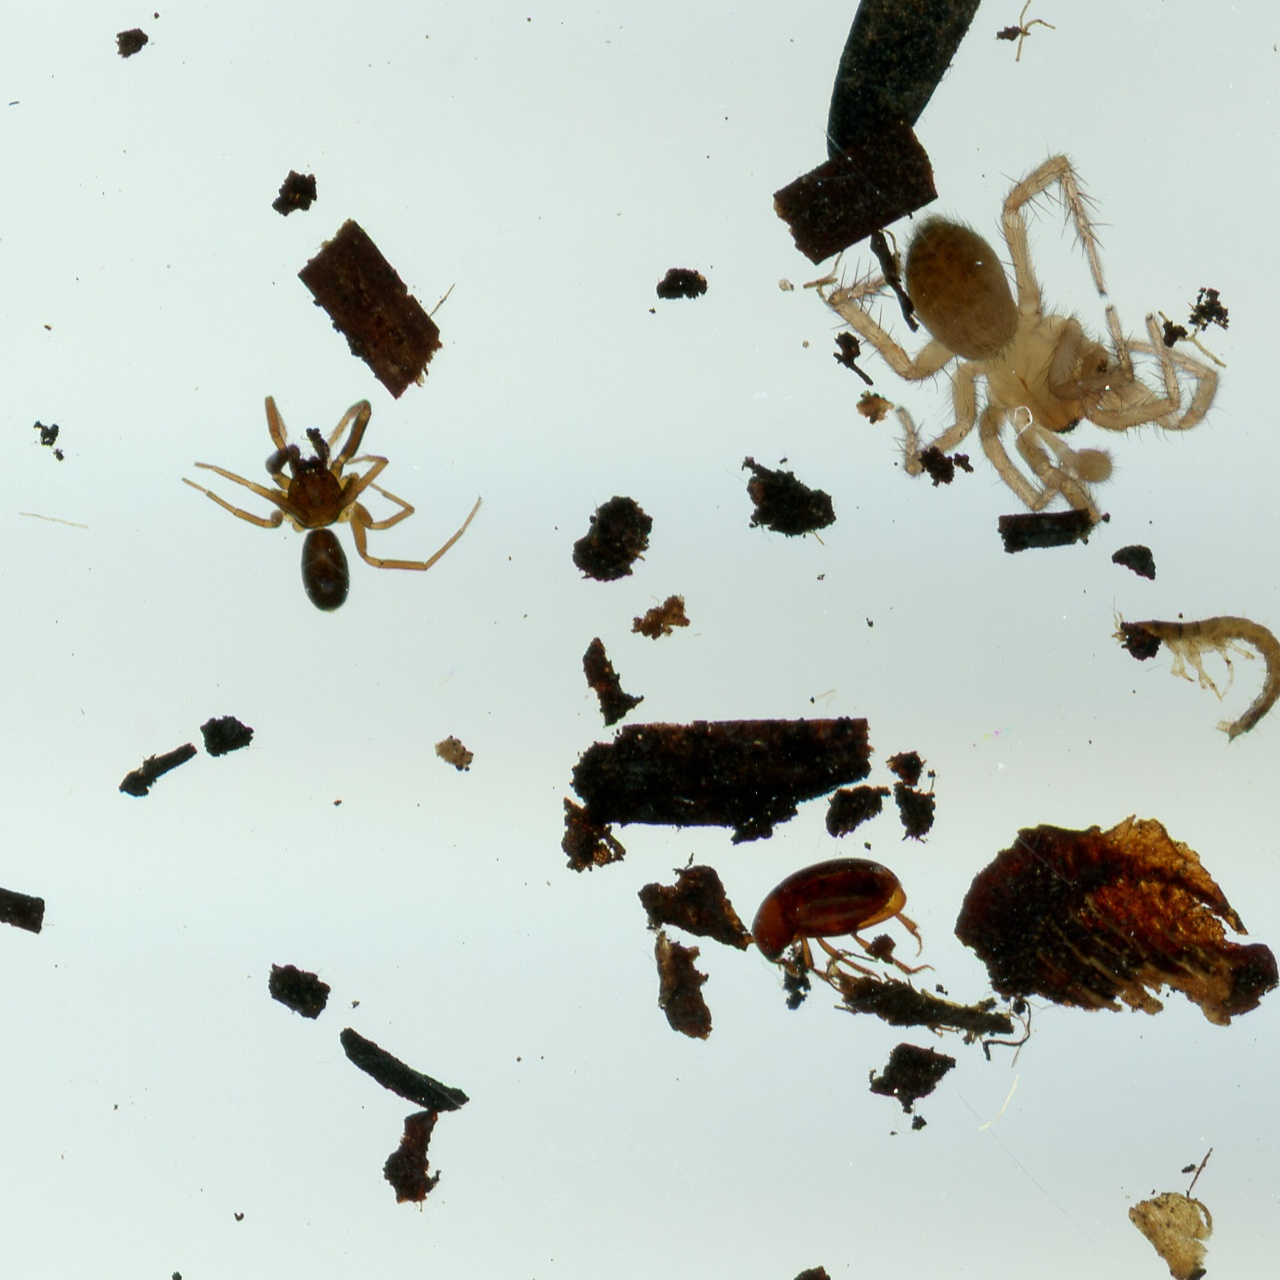arthropod: (817, 148, 1223, 527), (179, 396, 486, 611), (1101, 597, 1280, 747), (750, 855, 934, 985)
